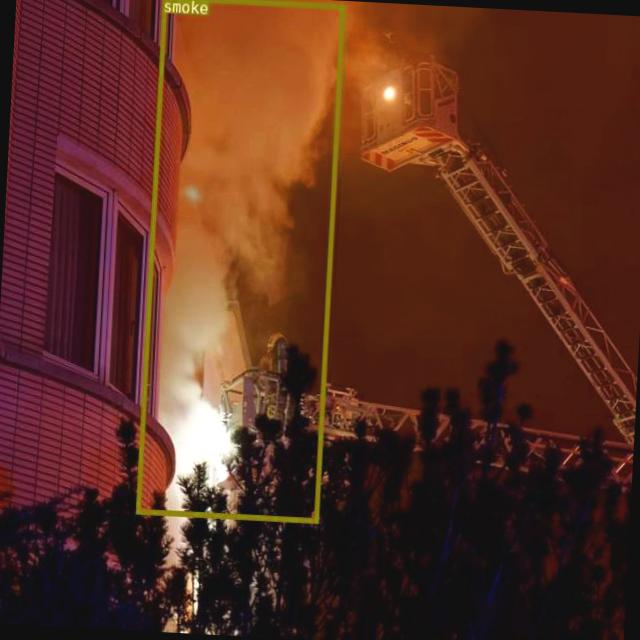smoke: (135, 0, 344, 522)
